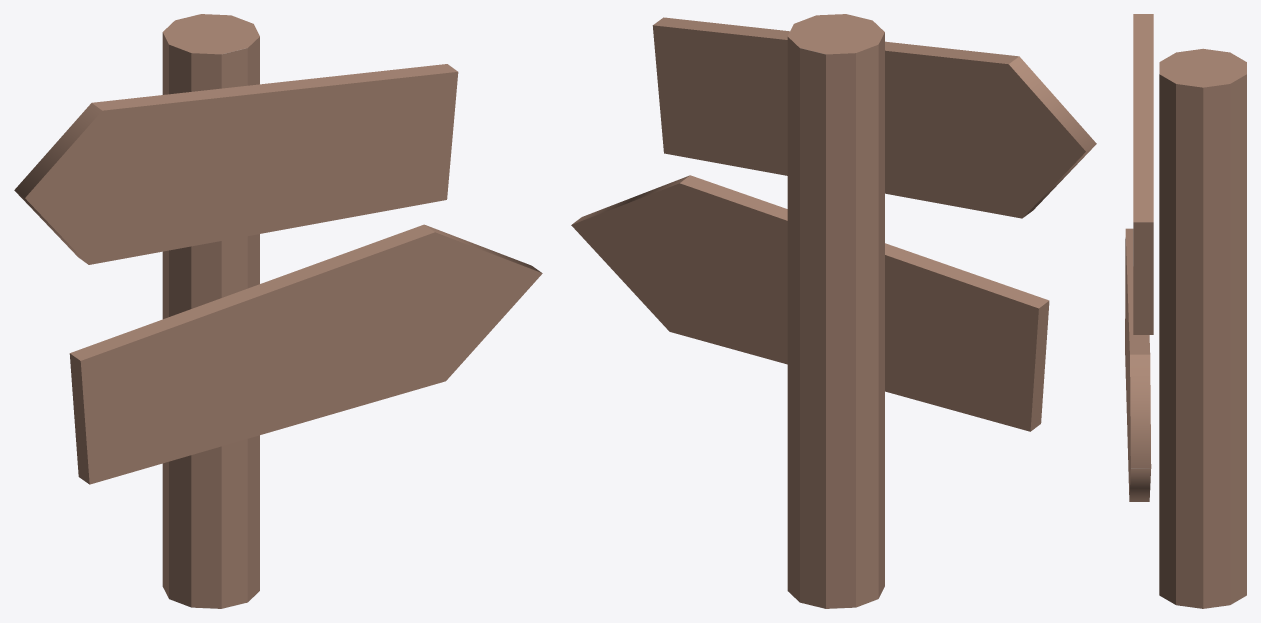
File: 村子木牌.fbx
3 views of the same model, side by side, from view 1: azimuth 30°, elevation 25°; view 2: azimuth 150°, elevation 25°; view 3: azimuth 270°, elevation 25° (orthographic). The views are drawn at different scales.
Parts seen in each view (by area): view 1: pCube3; view 2: pCube3; view 3: pCube3.
Boxes of the visible parts, box(x1,y1,x2,y2) form: pCube3: box(14, 14, 542, 608); pCube3: box(571, 14, 1096, 608); pCube3: box(1125, 14, 1246, 608).
Size of the model in its own units: 9.75 by 10 by 2.12.
